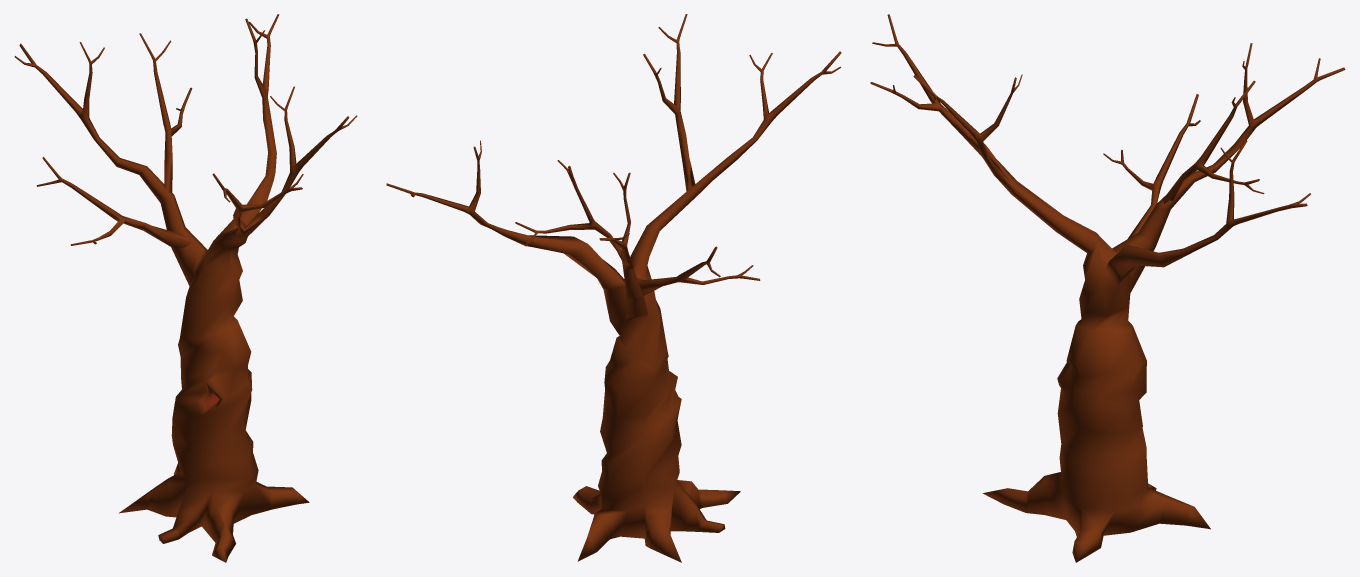
File: HWN20_Tree_03.glb
The picture shows the model from 3 angles, left to right: view 1: azimuth 30°, elevation 25°; view 2: azimuth 150°, elevation 25°; view 3: azimuth 270°, elevation 25°; orthographic projection. The views are drawn at different scales.
Visible parts, largest first — view 1: HWN20_Tree_03; view 2: HWN20_Tree_03; view 3: HWN20_Tree_03.
Part boxes in pixels (box(x1,y1,x2,y2)): HWN20_Tree_03: box(14, 14, 357, 562); HWN20_Tree_03: box(386, 14, 841, 562); HWN20_Tree_03: box(870, 14, 1345, 562).
Size of what is drawn, in the model's own units: 3.15 by 4.61 by 4.23.
Materials: 1 (1 with a texture image).
